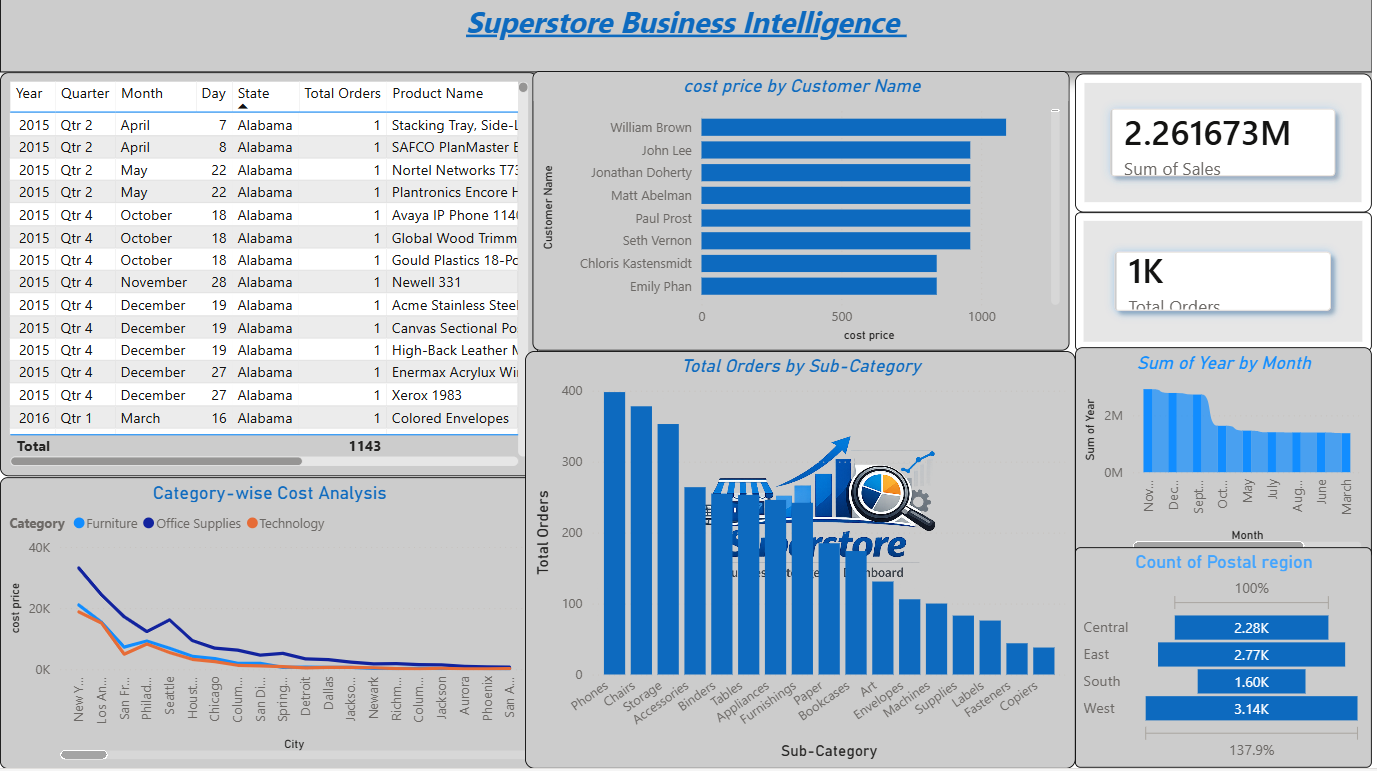

The page's visual inventory and layout, read from the dashboard file:
{"tool":"powerbi","page":{"name":"Page 1","canvas":[1280,720],"ordinal":0},"visuals":[{"type":"textbox","box":[0,0,1280.3,71.4],"z":0},{"type":"tableEx","fields":{"Values":["Superstore Business Intelligence Dashboard.Order Date.Variation.Date Hierarchy.Year","Superstore Business Intelligence Dashboard.Order Date.Variation.Date Hierarchy.Quarter","Superstore Business Intelligence Dashboard.Order Date.Variation.Date Hierarchy.Month","Superstore Business Intelligence Dashboard.Order Date.Variation.Date Hierarchy.Day","Superstore Business Intelligence Dashboard.State","Superstore Business Intelligence Dashboard.Total Orders","Superstore Business Intelligence Dashboard.Product Name"]},"box":[0,71.3,501.6,376.6],"z":1000},{"type":"clusteredBarChart","fields":{"Category":["Superstore Business Intelligence Dashboard.Customer Name"],"Y":["Superstore Business Intelligence Dashboard.cost price"]},"box":[501.6,71.3,501.6,260.9],"z":2000},{"type":"lineChart","title":"Category-wise Cost Analysis","fields":{"Category":["Superstore Business Intelligence Dashboard.City"],"Series":["Superstore Business Intelligence Dashboard.Category"],"Y":["Superstore Business Intelligence Dashboard.cost price"]},"box":[0,448.5,501.5,272.1],"z":3000},{"type":"cardVisual","fields":{"Data":["Sum(Superstore Business Intelligence Dashboard.Sales)"]},"box":[1002.9,72.1,276.5,129.4],"z":4000},{"type":"cardVisual","fields":{"Data":["Superstore Business Intelligence Dashboard.Total Orders"]},"box":[1002.9,201.5,276.5,129.4],"z":5000},{"type":"lineClusteredColumnComboChart","fields":{"Y":["Superstore Business Intelligence Dashboard.Total Orders"],"Category":["Superstore Business Intelligence Dashboard.Sub-Category"]},"box":[489.7,330.9,513.2,389.7],"z":6000},{"type":"ribbonChart","fields":{"Category":["Superstore Business Intelligence Dashboard.Month"],"Y":["Sum(Superstore Business Intelligence Dashboard.Year)"]},"box":[1002.9,327.9,276.5,198.5],"z":7000},{"type":"funnel","title":"Count of Postal region","fields":{"Category":["Superstore Business Intelligence Dashboard.Region","Superstore Business Intelligence Dashboard.Ship Date.Variation.Date Hierarchy.Year","Superstore Business Intelligence Dashboard.Ship Date.Variation.Date Hierarchy.Quarter","Superstore Business Intelligence Dashboard.Ship Date.Variation.Date Hierarchy.Month","Superstore Business Intelligence Dashboard.Ship Date.Variation.Date Hierarchy.Day","Superstore Business Intelligence Dashboard.State"],"Y":["CountNonNull(Superstore Business Intelligence Dashboard.Postal Code)"]},"box":[1002.9,514.7,276.5,205.9],"z":8000}]}

Visuals, with their boxes in screenshot pixels (x1, y1, x2, y2), scaled from the page's 1280x720 canvas onto the 1377x771 screenshot:
textbox: crop(0, 0, 1376, 76)
tableEx - Superstore Business Intelligence Dashboard.Order Date.Variation.Date Hierarchy.Year x Superstore Business Intelligence Dashboard.Order Date.Variation.Date Hierarchy.Quarter: crop(0, 76, 540, 480)
clusteredBarChart - Superstore Business Intelligence Dashboard.Customer Name x Superstore Business Intelligence Dashboard.cost price: crop(540, 76, 1079, 356)
"Category-wise Cost Analysis" lineChart: crop(0, 480, 540, 770)
cardVisual - Sum(Superstore Business Intelligence Dashboard.Sales): crop(1079, 77, 1376, 216)
cardVisual - Superstore Business Intelligence Dashboard.Total Orders: crop(1079, 216, 1376, 354)
lineClusteredColumnComboChart - Superstore Business Intelligence Dashboard.Total Orders x Superstore Business Intelligence Dashboard.Sub-Category: crop(527, 354, 1079, 770)
ribbonChart - Superstore Business Intelligence Dashboard.Month x Sum(Superstore Business Intelligence Dashboard.Year): crop(1079, 351, 1376, 564)
"Count of Postal region" funnel: crop(1079, 551, 1376, 770)
